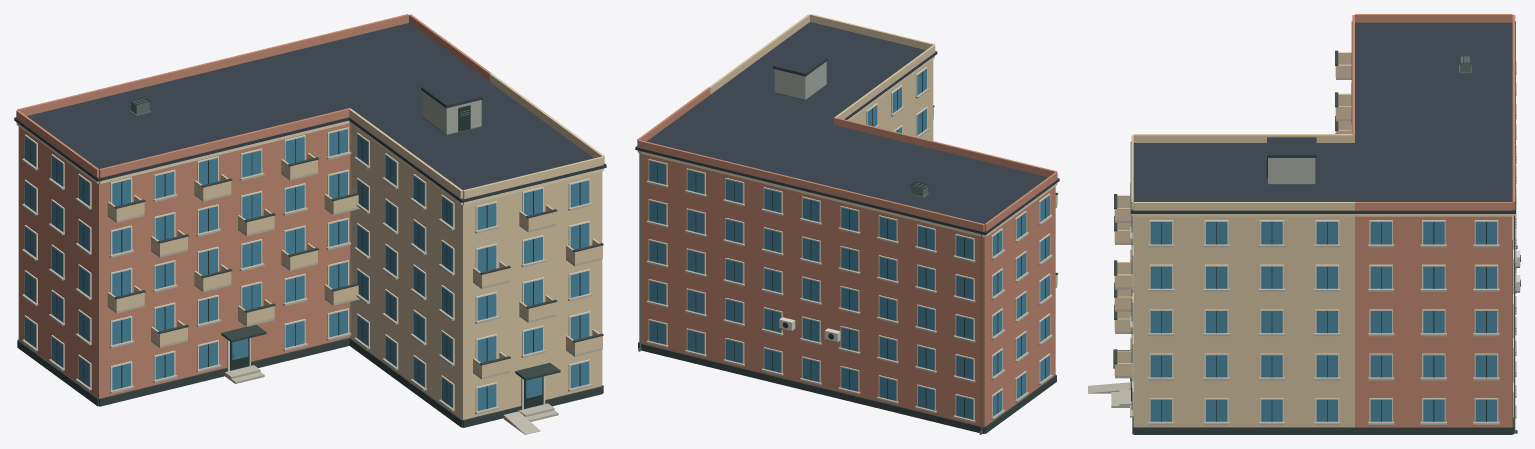
File: LCorner5.obj
The picture shows the model from 3 angles, left to right: view 1: azimuth 30°, elevation 25°; view 2: azimuth 150°, elevation 25°; view 3: azimuth 270°, elevation 25°; orthographic projection. The views are drawn at different scales.
Parts seen in each view (by area): view 1: LCorner5; view 2: LCorner5; view 3: LCorner5.
Boxes of the visible parts, bbox=[...] form: LCorner5: bbox=[14, 14, 606, 434]; LCorner5: bbox=[635, 14, 1059, 434]; LCorner5: bbox=[1088, 14, 1520, 434].
Bounding box in the file's own units: 28.5 × 17.8 × 27.42.
1 material, 1 textured.
